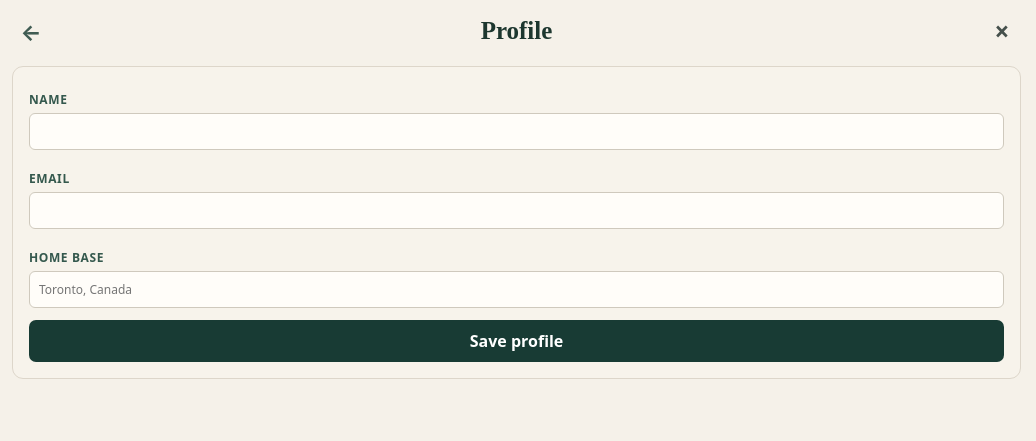
Scenario: ProfilePanel › validates name and email before invoking profile persistence
This screenshot has width=1036, height=441.
Submit the form "Save profile"
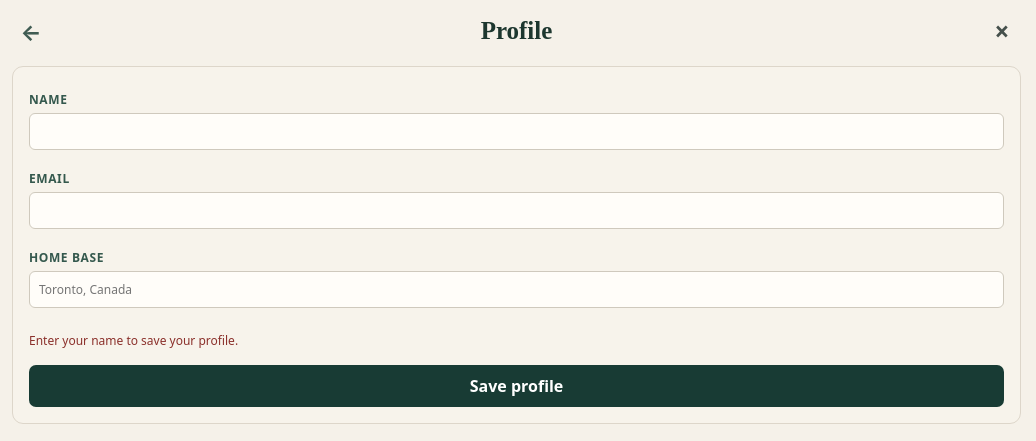
expect the message reads "Enter your name to save your profile.": met, box [29,332,238,349]
Type "Alex" into the field labelled "Name" at (516, 132), box [29,113,1004,150]
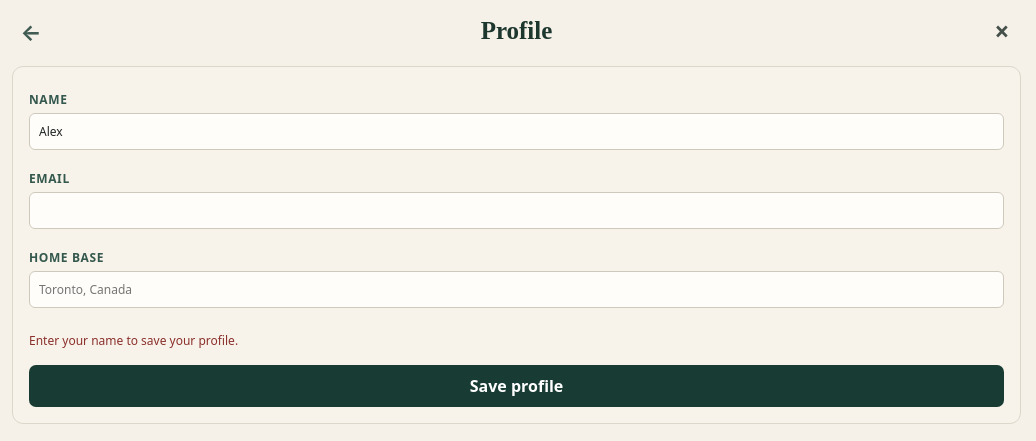
Type "not-an-email" into the field labelled "Email" at (516, 210), box [29,192,1004,229]
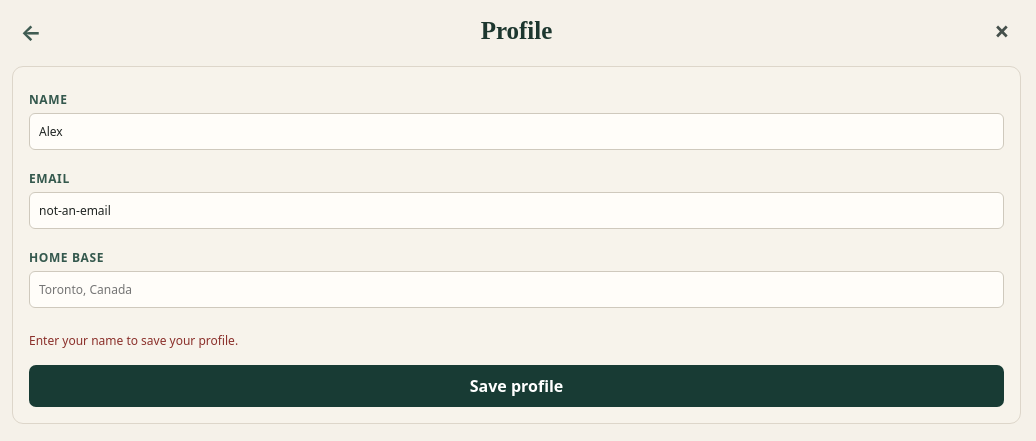
Submit the form "Save profile"
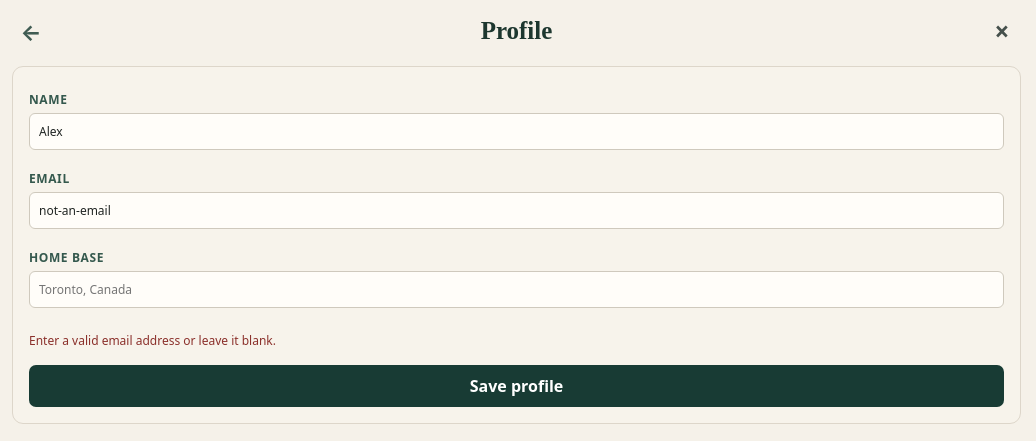
expect the message reads "Enter a valid email address or leave it blank.": met, box [29,332,276,349]
